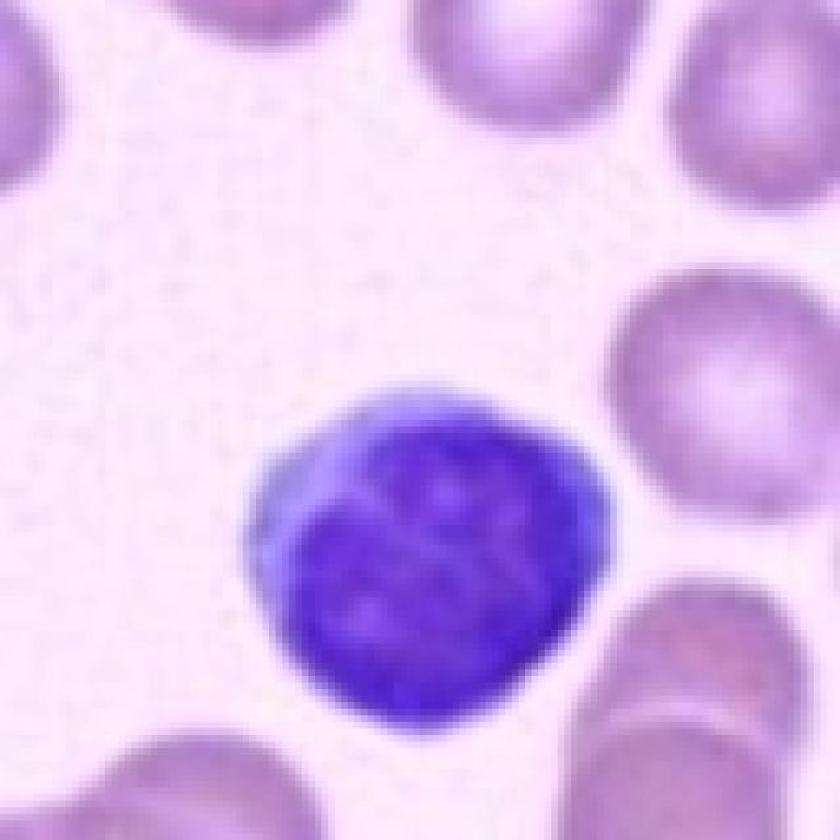lymphocyte: (224, 377, 632, 743)
